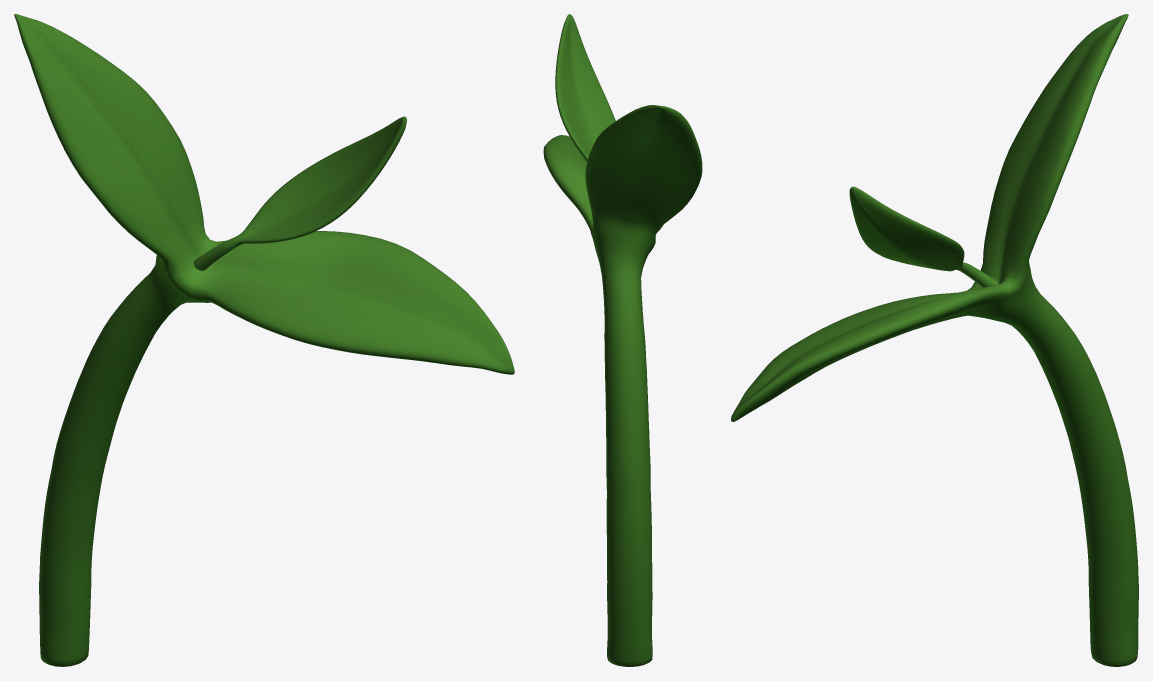
The model's file is plant_sprout_abstract.obj.
3 renders of one model, left to right at view 1: azimuth 30°, elevation 25°; view 2: azimuth 150°, elevation 25°; view 3: azimuth 270°, elevation 25°, orthographic. The views are drawn at different scales.
Parts seen in each view (by area): view 1: plant_sprout_abstract; view 2: plant_sprout_abstract; view 3: plant_sprout_abstract.
Part boxes in pixels (x1,y1,x2,y2): plant_sprout_abstract: (14, 14, 514, 666); plant_sprout_abstract: (543, 14, 702, 666); plant_sprout_abstract: (731, 14, 1138, 666).
Bounding box in the file's own units: 16.38 × 33.75 × 19.99.
1 material, 1 textured.
